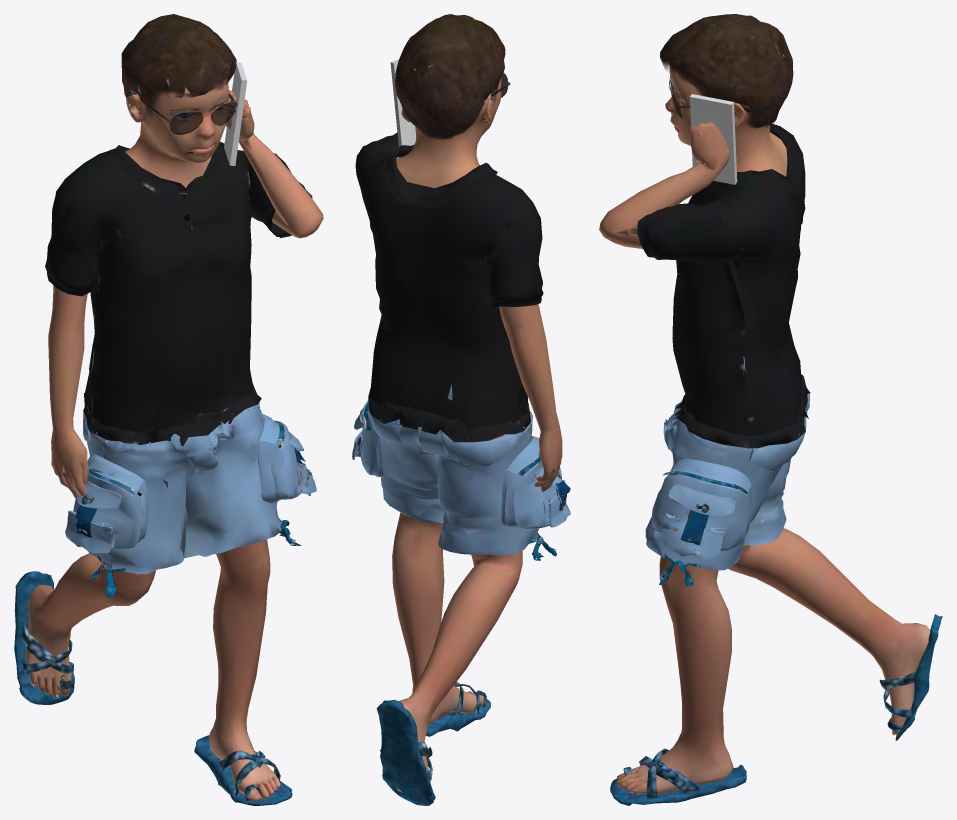
3 renders of one model, left to right at view 1: azimuth 30°, elevation 25°; view 2: azimuth 150°, elevation 25°; view 3: azimuth 270°, elevation 25°, orthographic. The views are drawn at different scales.
Visible parts, largest first — view 1: p02131; view 2: p02131; view 3: p02131.
Part boxes in pixels (x1,y1,x2,y2): p02131: [14, 14, 323, 805]; p02131: [352, 14, 570, 805]; p02131: [599, 14, 942, 805].
Bounding box in the file's own units: 0.4275 × 1.33 × 0.5444.
Materials: 1 (1 with a texture image).
